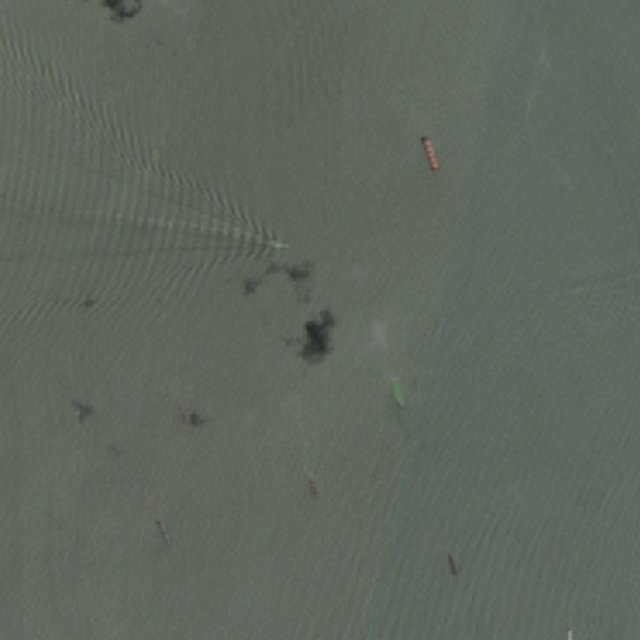wake: (26, 131, 313, 322)
